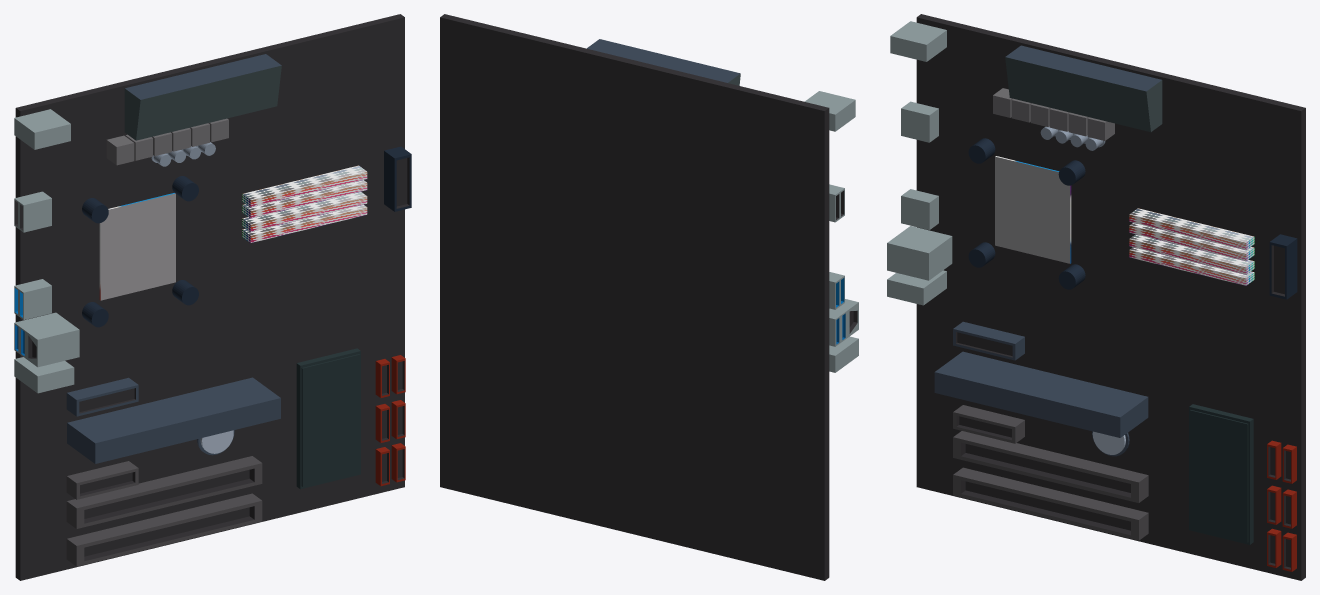
File: motherboard.glb
3 renders of one model, left to right at view 1: azimuth 30°, elevation 25°; view 2: azimuth 150°, elevation 25°; view 3: azimuth 330°, elevation 25°, orthographic.
Parts seen in each view (by area): view 1: Cube.078, GPU_P, Cube.098, Cube.099, CPU_SOCKET, Cube.119, Cube.094, RAM1_P, RAM2_P, Cube.101, COOLER, Cube.096 (+14 smaller); view 2: Cube.078, Cube.098, Cube.101, Cube.104, Cube.100, Cube.102, Cube.103; view 3: Cube.078, GPU_P, Cube.098, Cube.099, CPU_SOCKET, Cube.119, Cube.094, RAM1_P, RAM2_P, Cube.101, COOLER, Cube.095 (+13 smaller).
Part boxes in pixels (x1,y1,x2,y2): Cube.078: (15,14,404,580); GPU_P: (67,377,280,463); Cube.098: (124,54,281,140); Cube.099: (296,348,360,489); CPU_SOCKET: (99,193,175,300); Cube.119: (66,493,262,566); Cube.094: (66,456,262,528); RAM1_P: (242,165,367,218); RAM2_P: (242,191,367,243); Cube.101: (14,312,79,367); COOLER: (82,176,198,327); Cube.096: (66,461,138,499); Cube.078: (440,14,829,580); Cube.098: (587,39,740,85); Cube.101: (829,299,858,346); Cube.104: (804,91,855,131); Cube.100: (829,336,858,372); Cube.102: (829,272,844,309); Cube.103: (829,184,844,222); Cube.078: (916,14,1305,580); GPU_P: (934,351,1148,437); Cube.098: (1005,45,1162,132); Cube.099: (1189,404,1253,544); CPU_SOCKET: (995,156,1071,263); Cube.119: (953,467,1148,540); Cube.094: (953,431,1148,502); RAM1_P: (1129,208,1254,261); RAM2_P: (1129,234,1254,285); Cube.101: (887,226,952,280); COOLER: (968,138,1085,289); Cube.095: (953,321,1024,360).
Size of the model in its own units: 0.425 by 0.4881 by 0.0621.
2 materials, 2 textured.
